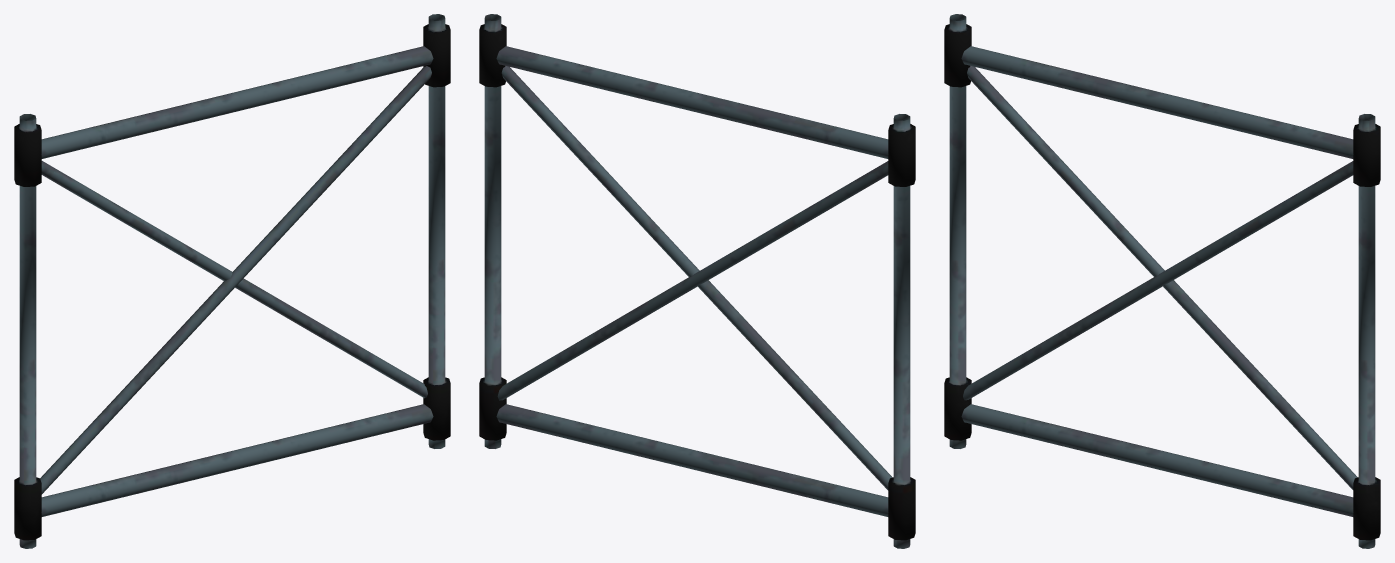
Rendered from BarrasTrelicadas.fbx.
3 renders of one model, left to right at view 1: azimuth 30°, elevation 25°; view 2: azimuth 150°, elevation 25°; view 3: azimuth 330°, elevation 25°, orthographic.
Parts seen in each view (by area): view 1: Barras Trelicadas; view 2: Barras Trelicadas; view 3: Barras Trelicadas.
Part boxes in pixels (x1=…): Barras Trelicadas: x1=14, y1=14, x2=450, y2=548; Barras Trelicadas: x1=479, y1=14, x2=915, y2=548; Barras Trelicadas: x1=944, y1=14, x2=1380, y2=548.
Size of the model in its own units: 212 by 200 by 11.91.
